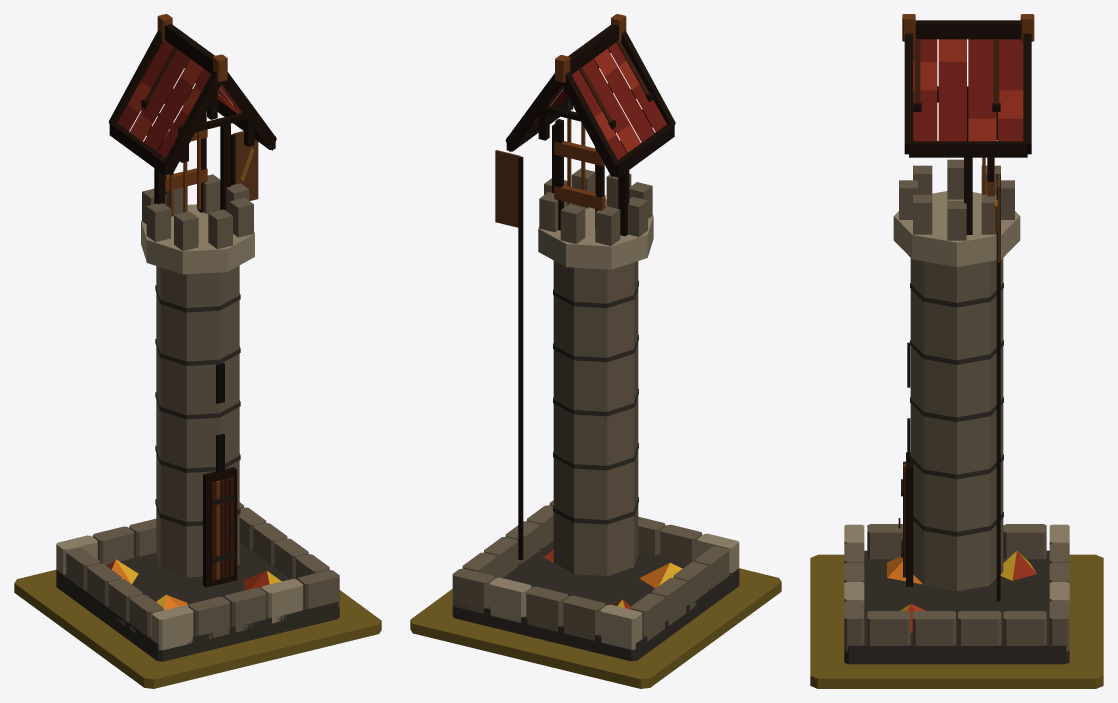
The model's file is archer_tower_t3.glb.
3 views of the same model, side by side, from view 1: azimuth 30°, elevation 25°; view 2: azimuth 150°, elevation 25°; view 3: azimuth 270°, elevation 25° (orthographic). The views are drawn at different scales.
Parts seen in each view (by area): view 1: MMR | archer_tower | T03 Architecture.001, MMR | archer_tower | Tier 03 Ground.001, MMR | archer_tower | T03 Roof Supports.001, MMR | archer_tower | T03 Banner Flag 1.001, MMR | archer_tower | T03 Autumn Dressing.001; view 2: MMR | archer_tower | T03 Architecture.001, MMR | archer_tower | Tier 03 Ground.001, MMR | archer_tower | T03 Banner Flag 1.001, MMR | archer_tower | T03 Roof Supports.001, MMR | archer_tower | T03 Autumn Dressing.001; view 3: MMR | archer_tower | T03 Architecture.001, MMR | archer_tower | Tier 03 Ground.001, MMR | archer_tower | T03 Autumn Dressing.001, MMR | archer_tower | T03 Roof Supports.001.
Boxes of the visible parts, <box> form: MMR | archer_tower | T03 Architecture.001: <box>56,14,339,661</box>; MMR | archer_tower | Tier 03 Ground.001: <box>14,569,381,688</box>; MMR | archer_tower | T03 Roof Supports.001: <box>141,47,254,162</box>; MMR | archer_tower | T03 Banner Flag 1.001: <box>233,131,258,200</box>; MMR | archer_tower | T03 Autumn Dressing.001: <box>107,559,281,610</box>; MMR | archer_tower | T03 Architecture.001: <box>452,14,739,661</box>; MMR | archer_tower | Tier 03 Ground.001: <box>410,568,781,688</box>; MMR | archer_tower | T03 Banner Flag 1.001: <box>495,150,520,227</box>; MMR | archer_tower | T03 Roof Supports.001: <box>538,40,653,140</box>; MMR | archer_tower | T03 Autumn Dressing.001: <box>544,549,682,609</box>; MMR | archer_tower | T03 Architecture.001: <box>844,14,1069,664</box>; MMR | archer_tower | Tier 03 Ground.001: <box>810,554,1103,688</box>; MMR | archer_tower | T03 Autumn Dressing.001: <box>887,551,1036,632</box>; MMR | archer_tower | T03 Roof Supports.001: <box>913,39,1000,140</box>.
Size of the model in its own units: 1.3 by 2.98 by 1.3.
Materials: 1 (1 with a texture image).
